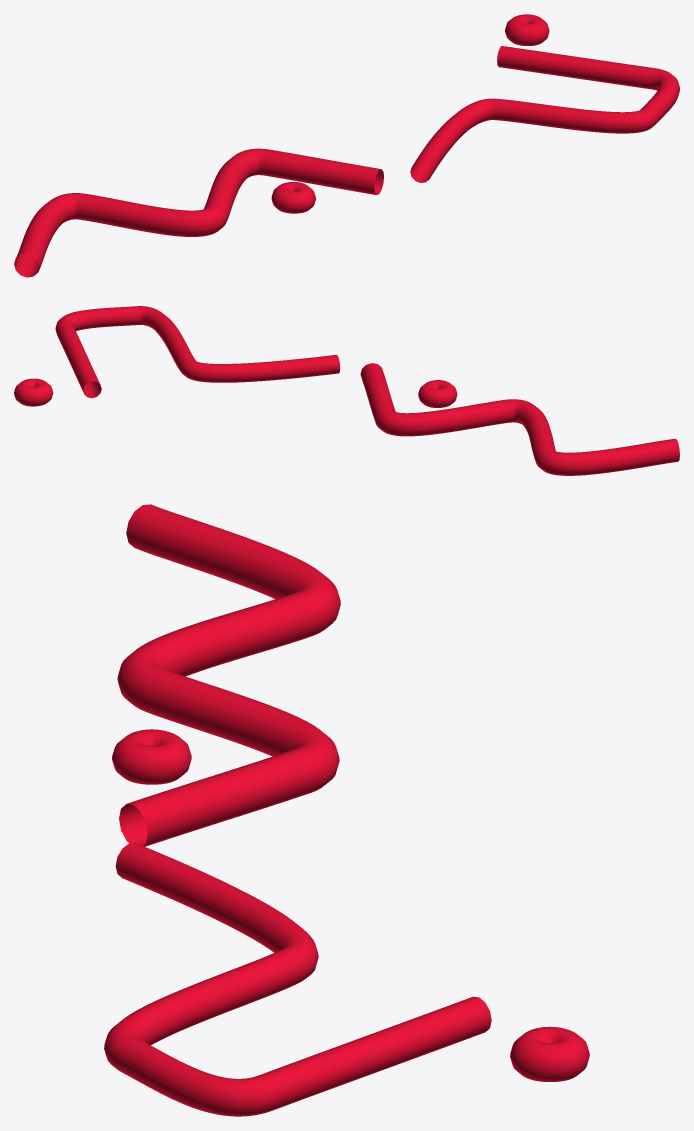
The model's file is aksara_api.fbx.
3 renders of one model, top to bottom at view 1: azimuth 30°, elevation 25°; view 2: azimuth 150°, elevation 25°; view 3: azimuth 270°, elevation 25°, orthographic. The views are drawn at different scales.
Visible parts, largest first — view 1: BézierCurve; view 2: BézierCurve; view 3: BézierCurve.
Boxes of the visible parts, x1=… form: BézierCurve: x1=14, y1=14, x2=679, y2=277; BézierCurve: x1=14, y1=306, x2=679, y2=475; BézierCurve: x1=104, y1=504, x2=589, y2=1116.
Bounding box in the file's own units: 361 × 12.13 × 126.
